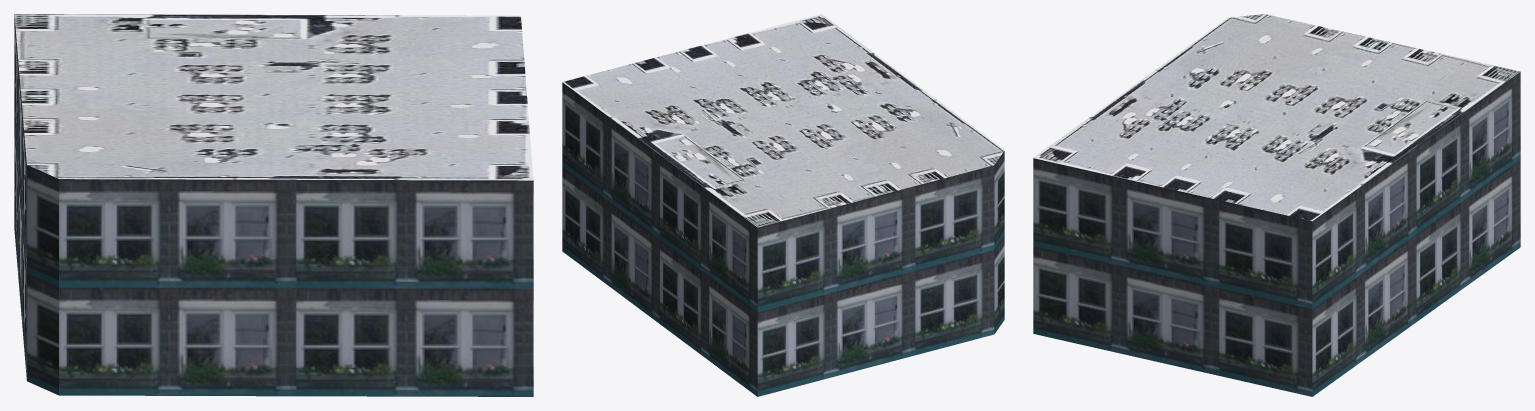
File: ResTex__693.fbx
3 views of the same model, side by side, from view 1: azimuth 30°, elevation 25°; view 2: azimuth 150°, elevation 25°; view 3: azimuth 270°, elevation 25° (orthographic). The views are drawn at different scales.
Visible parts, largest first — view 1: CityEngineMaterial_11_m, CityEngineMaterial_4_m; view 2: CityEngineMaterial_11_m, CityEngineMaterial_4_m; view 3: CityEngineMaterial_11_m, CityEngineMaterial_4_m.
Part boxes in pixels (x1,y1,x2,y2): CityEngineMaterial_11_m: (14, 14, 533, 396); CityEngineMaterial_4_m: (14, 14, 533, 180); CityEngineMaterial_11_m: (562, 82, 1004, 396); CityEngineMaterial_4_m: (562, 14, 1004, 227); CityEngineMaterial_11_m: (1033, 72, 1520, 396); CityEngineMaterial_4_m: (1033, 14, 1520, 221).
Bounding box in the file's own units: 15.18 × 6 × 15.09.
2 materials, 2 textured.
